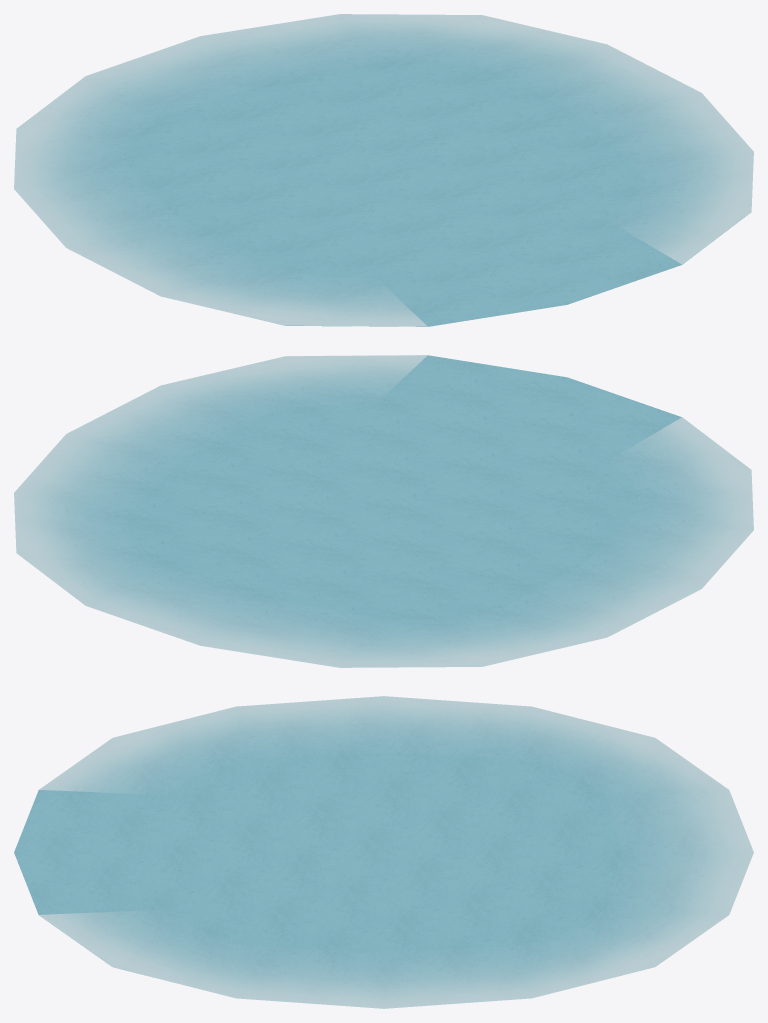
Rendered from water.glb.
3 views of the same model, one above another, from view 1: azimuth 30°, elevation 25°; view 2: azimuth 150°, elevation 25°; view 3: azimuth 270°, elevation 25° (orthographic).
Parts seen in each view (by area): view 1: seagloss.png__, horizon.png__; view 2: seagloss.png__, horizon.png__; view 3: seagloss.png__, horizon.png__.
Boxes of the visible parts, x1,y1,x2,y2 form: seagloss.png__: (14,14,753,326); horizon.png__: (14,14,753,326); seagloss.png__: (14,355,753,667); horizon.png__: (14,355,753,667); seagloss.png__: (14,696,753,1008); horizon.png__: (39,696,753,1008).
Bounding box in the file's own units: 1.88 × 0.000594 × 1.88.
2 materials, 2 textured.
